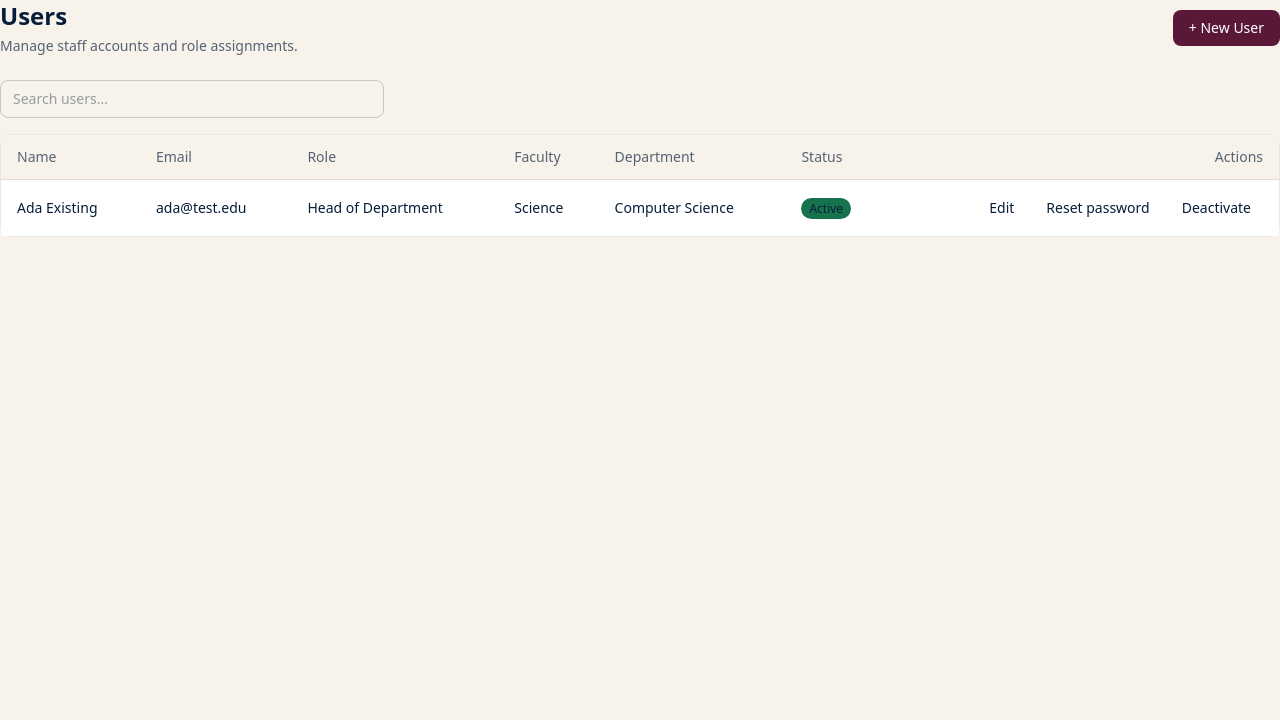
Test case: UsersPage edit form department dropdown › preselects the existing department when editing a department-scoped user for the first time
The image size is (1280, 720).
Click the button "Edit": (1002, 208) top-left (977, 192), bottom-right (1026, 224)
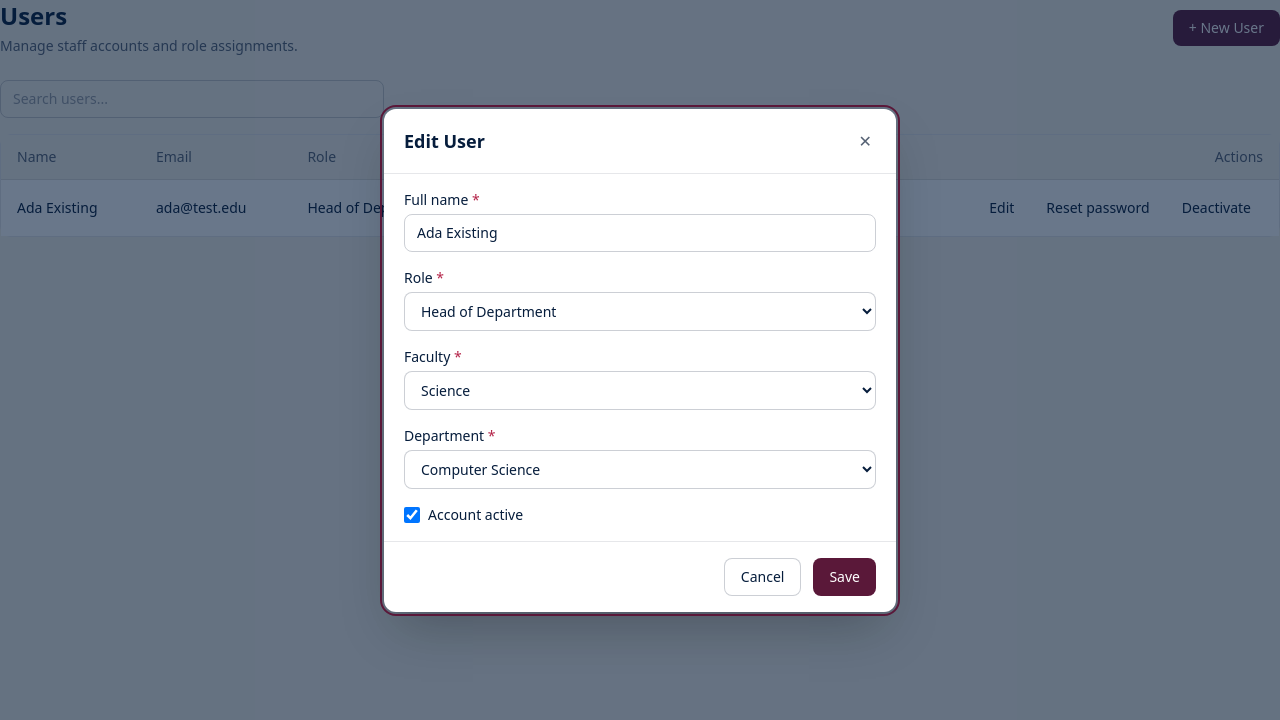
Expected: the dropdown labelled "Department *" shows "Computer Science", top-left (404, 450), bottom-right (876, 488)
